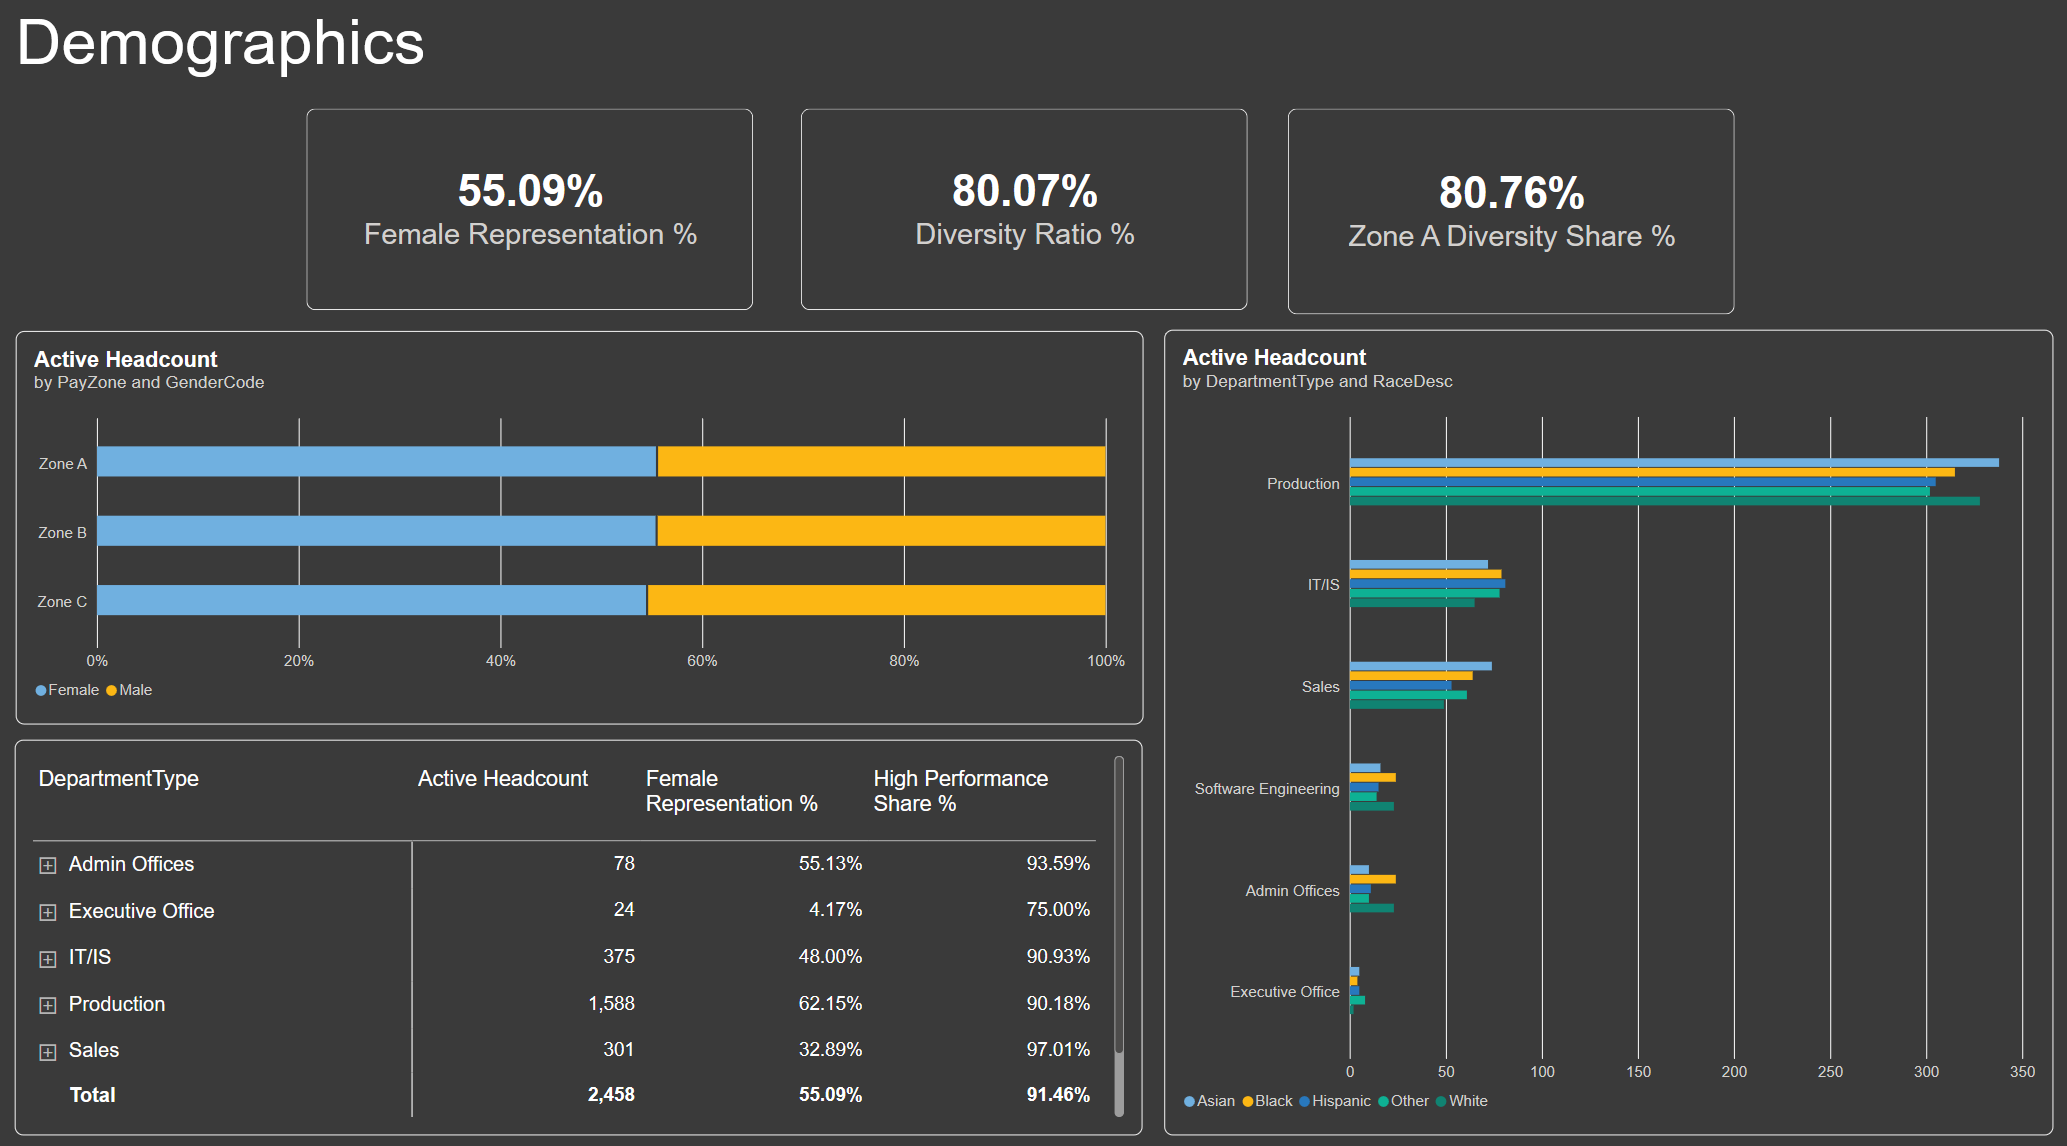

The page's visual inventory and layout, read from the dashboard file:
{"tool":"powerbi","page":{"name":"Demographics","canvas":[1920,1080],"ordinal":2},"visuals":[{"type":"cardVisual","fields":{"Data":["Measures_.Female Representation %"]},"box":[286.8,111.1,412,185.8],"z":0},{"type":"cardVisual","fields":{"Data":["Measures_.Diversity Ratio %"]},"box":[743.2,111.1,412,185.8],"z":1000},{"type":"cardVisual","fields":{"Data":["Measures_.Zone A Diversity Share %"]},"box":[1191.6,111.1,412,189.8],"z":2000},{"type":"hundredPercentStackedBarChart","fields":{"Category":["dim_employee.PayZone"],"Series":["dim_employee.GenderCode"],"Y":["Measures_.Active Headcount"]},"box":[18.7,315.7,1040.3,363.2],"z":3000},{"type":"clusteredBarChart","fields":{"Category":["dim_employee.DepartmentType"],"Series":["dim_employee.RaceDesc"],"Y":["Measures_.Active Headcount"]},"box":[1078.5,315.1,820,743.2],"z":4000},{"type":"pivotTable","fields":{"Rows":["dim_employee.DepartmentType","dim_employee.RaceDesc"],"Values":["Measures_.Active Headcount","Measures_.Female Representation %","Measures_.High Performance Share %"]},"box":[18.2,692.7,1040.1,365.6],"z":5000},{"type":"textbox","box":[18.7,0,875.7,113.7],"z":5001}]}

Visuals, with their boxes in screenshot pixels (x1, y1, x2, y2), scaled from the page's 1920x1080 canvas onto the 2067x1146 screenshot:
cardVisual - Measures_.Female Representation %: bbox=[309, 118, 752, 315]
cardVisual - Measures_.Diversity Ratio %: bbox=[800, 118, 1244, 315]
cardVisual - Measures_.Zone A Diversity Share %: bbox=[1283, 118, 1726, 319]
hundredPercentStackedBarChart - dim_employee.PayZone x dim_employee.GenderCode: bbox=[20, 335, 1140, 720]
clusteredBarChart - dim_employee.DepartmentType x dim_employee.RaceDesc: bbox=[1161, 334, 2044, 1123]
pivotTable - dim_employee.DepartmentType x dim_employee.RaceDesc: bbox=[20, 735, 1139, 1123]
textbox: bbox=[20, 0, 963, 121]
